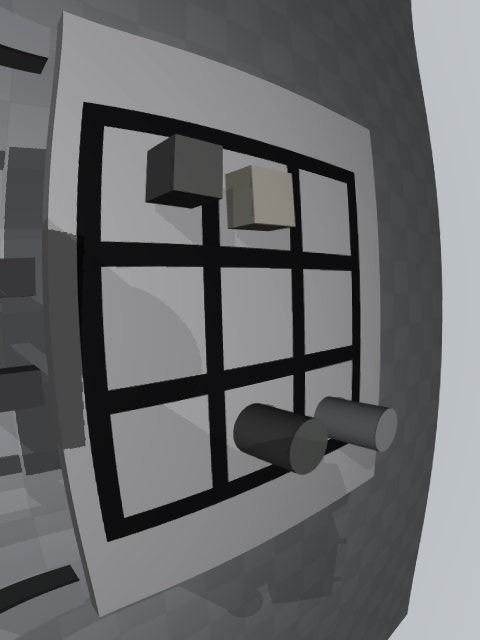can: (314, 396, 398, 452)
cube: (146, 134, 223, 209)
cylinder: (233, 403, 328, 475)
foam: (225, 165, 296, 231)
